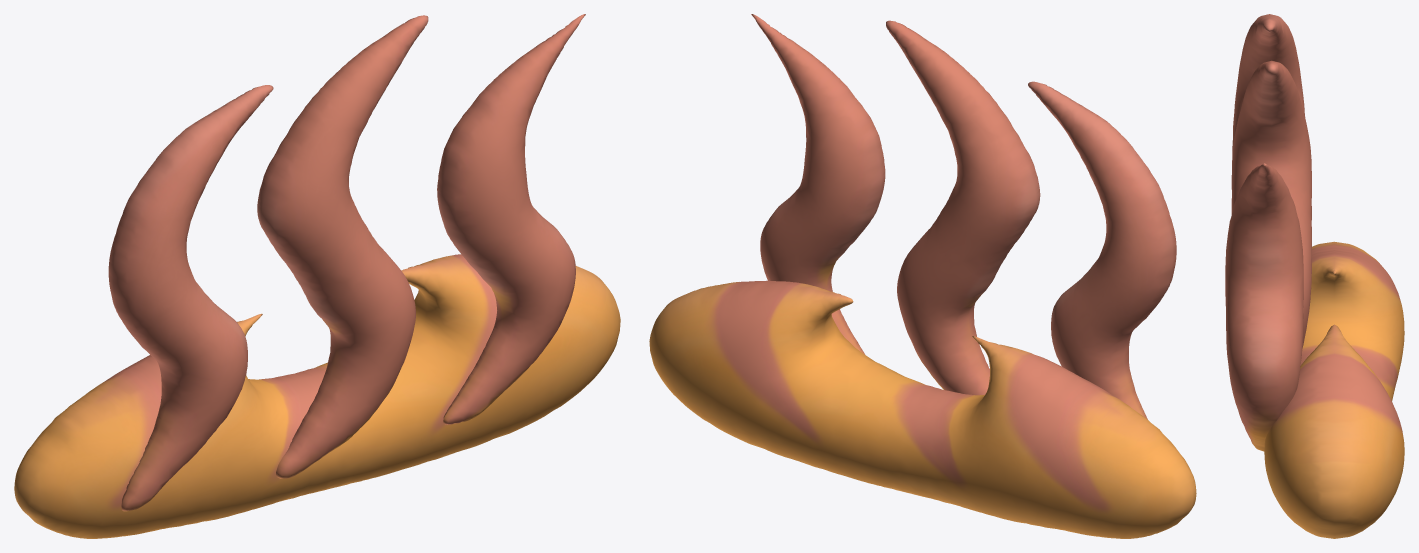
The model's file is Spa0.glb.
3 views of the same model, side by side, from view 1: azimuth 30°, elevation 25°; view 2: azimuth 150°, elevation 25°; view 3: azimuth 270°, elevation 25° (orthographic). The views are drawn at different scales.
Bounding box in the file's own units: 6.9 × 5.29 × 2.
Materials: 1 (1 with a texture image).
